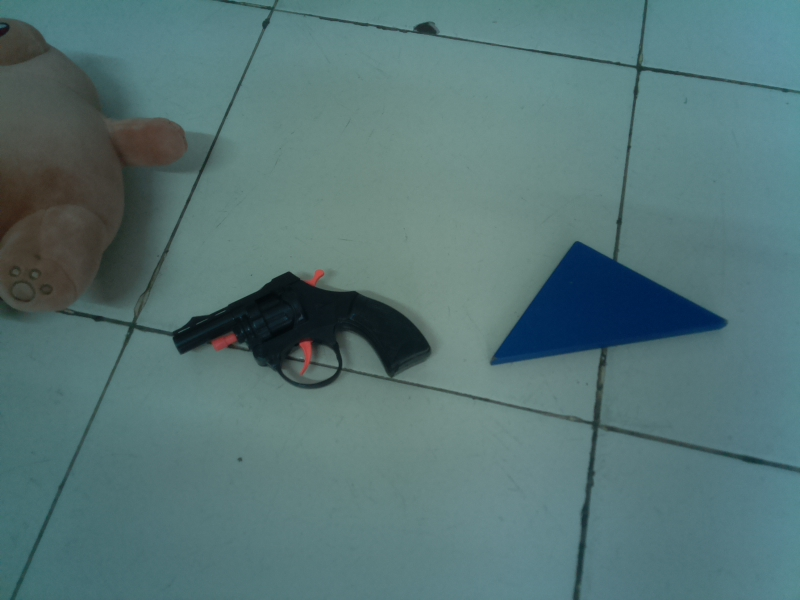Gun: (164, 264, 440, 394)
Triangle: (484, 235, 735, 378)
